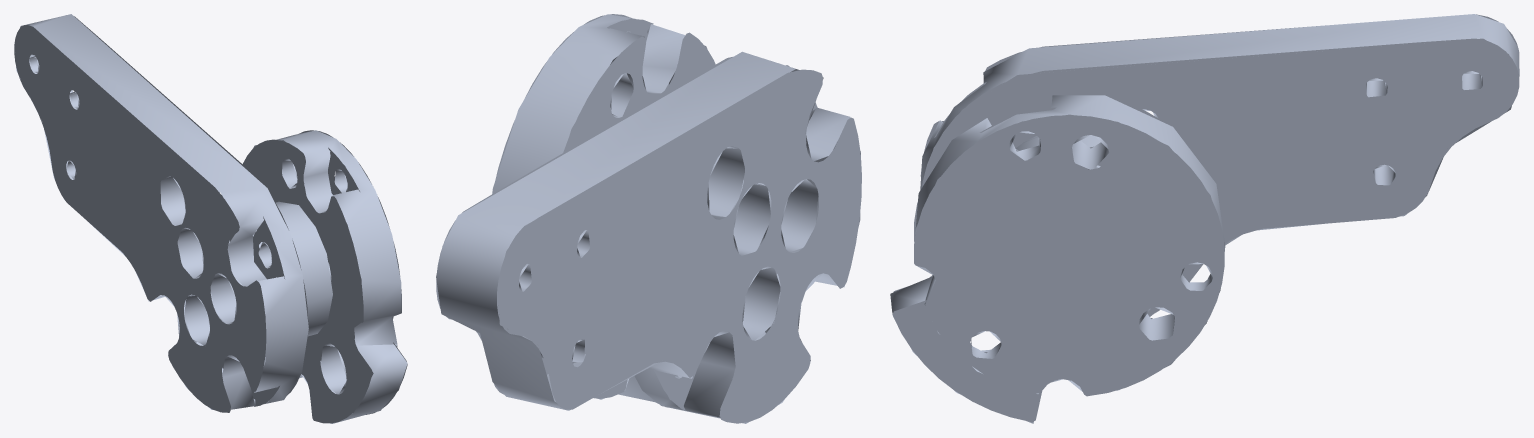
The model's file is finger_inner_03.obj.
3 renders of one model, left to right at view 1: azimuth 30°, elevation 25°; view 2: azimuth 150°, elevation 25°; view 3: azimuth 270°, elevation 25°, orthographic. The views are drawn at different scales.
Parts seen in each view (by area): view 1: finger_inner_03; view 2: finger_inner_03; view 3: finger_inner_03.
Part boxes in pixels (x1,y1,x2,y2): finger_inner_03: [14, 14, 407, 423]; finger_inner_03: [436, 14, 861, 423]; finger_inner_03: [890, 14, 1519, 423].
Size of the model in its own units: 0.019 by 0.0386 by 0.0657.
